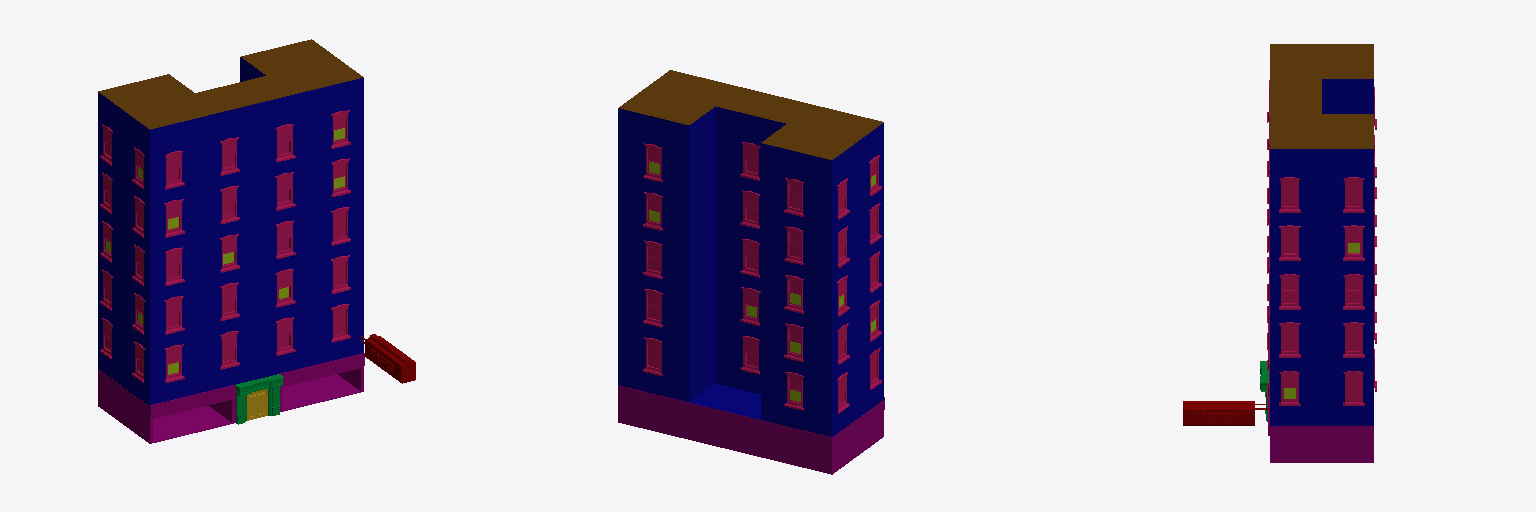
Rendered from Building.obj.
3 views of the same model, side by side, from view 1: azimuth 30°, elevation 25°; view 2: azimuth 150°, elevation 25°; view 3: azimuth 270°, elevation 25° (orthographic).
Parts seen in each view (by area): view 1: buildingbody, sliding_windows, roof, building_shops, market_board, door_path, llights_on_off, door; view 2: buildingbody, sliding_windows, building_shops, roof, llights_on_off; view 3: buildingbody, roof, sliding_windows, building_shops, market_board.
Part boxes in pixels (bbox=[...]): buildingbody: bbox=[98, 57, 363, 406]; sliding_windows: bbox=[100, 110, 350, 382]; roof: bbox=[98, 39, 363, 129]; building_shops: bbox=[98, 353, 364, 443]; market_board: bbox=[360, 334, 415, 383]; door_path: bbox=[235, 374, 283, 424]; llights_on_off: bbox=[106, 128, 344, 374]; door: bbox=[247, 389, 267, 420]; buildingbody: bbox=[618, 106, 883, 436]; sliding_windows: bbox=[643, 142, 881, 413]; building_shops: bbox=[618, 385, 884, 474]; roof: bbox=[619, 70, 883, 159]; llights_on_off: bbox=[649, 162, 875, 401]; buildingbody: bbox=[1270, 79, 1373, 425]; roof: bbox=[1270, 44, 1373, 148]; sliding_windows: bbox=[1267, 80, 1376, 405]; building_shops: bbox=[1268, 322, 1373, 462]; market_board: bbox=[1183, 401, 1269, 425].
Size of the model in its own units: 1963 by 2593 by 1451.